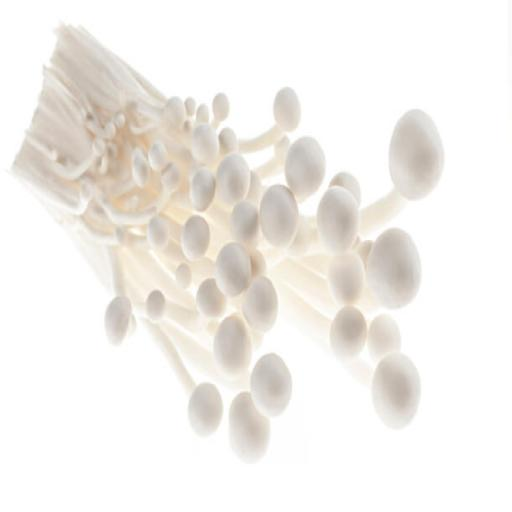Enoki Mushroom: (10, 13, 455, 461)
